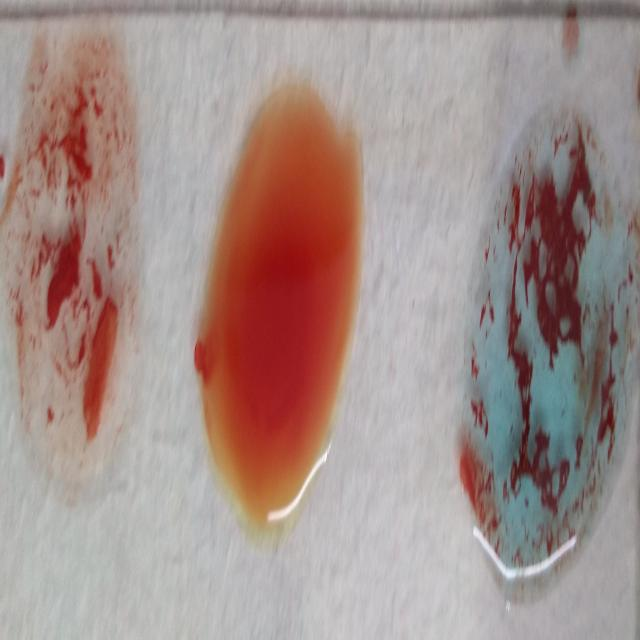A: (469, 102, 626, 574)
D: (13, 36, 138, 494)
